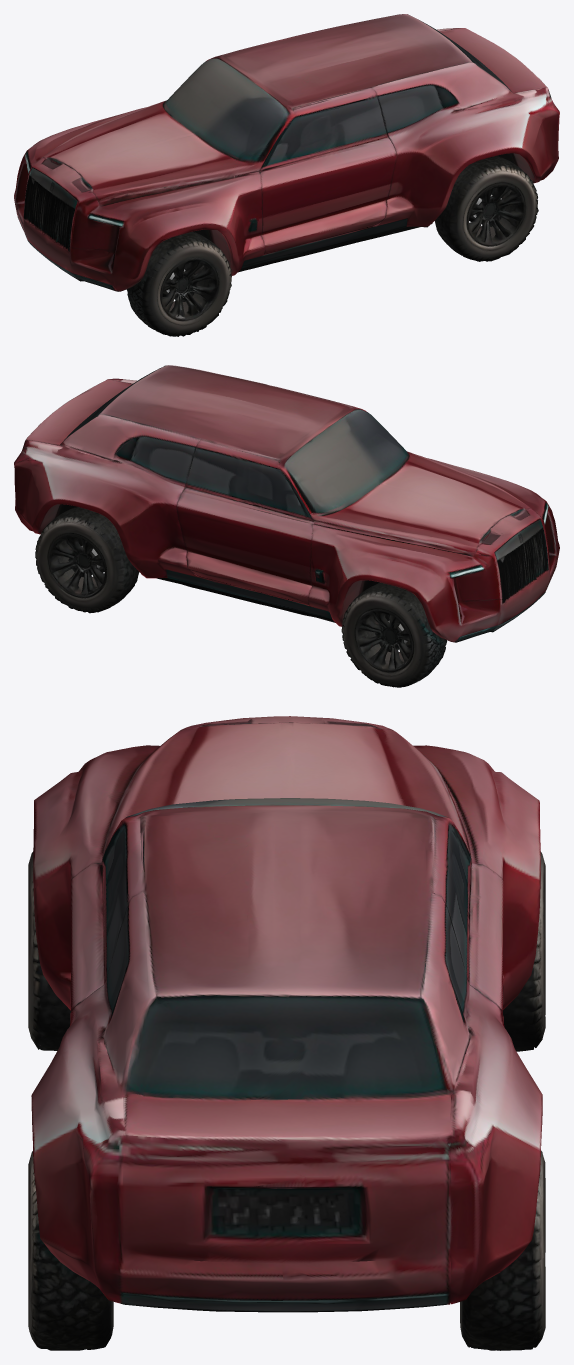
The model's file is TestSuv.glb.
3 views of the same model, one above another, from view 1: azimuth 30°, elevation 25°; view 2: azimuth 150°, elevation 25°; view 3: azimuth 270°, elevation 25° (orthographic). The views are drawn at different scales.
Parts seen in each view (by area): view 1: tripo_node_1c916023-b186-411a-b1ef-8cdafbd403ef; view 2: tripo_node_1c916023-b186-411a-b1ef-8cdafbd403ef; view 3: tripo_node_1c916023-b186-411a-b1ef-8cdafbd403ef.
Part boxes in pixels (x1,y1,x2,y2): tripo_node_1c916023-b186-411a-b1ef-8cdafbd403ef: (14, 14, 559, 336); tripo_node_1c916023-b186-411a-b1ef-8cdafbd403ef: (14, 365, 559, 687); tripo_node_1c916023-b186-411a-b1ef-8cdafbd403ef: (28, 716, 545, 1350).
Bounding box in the file's own units: 0.98 × 0.3603 × 0.4613.
Materials: 1 (1 with a texture image).
